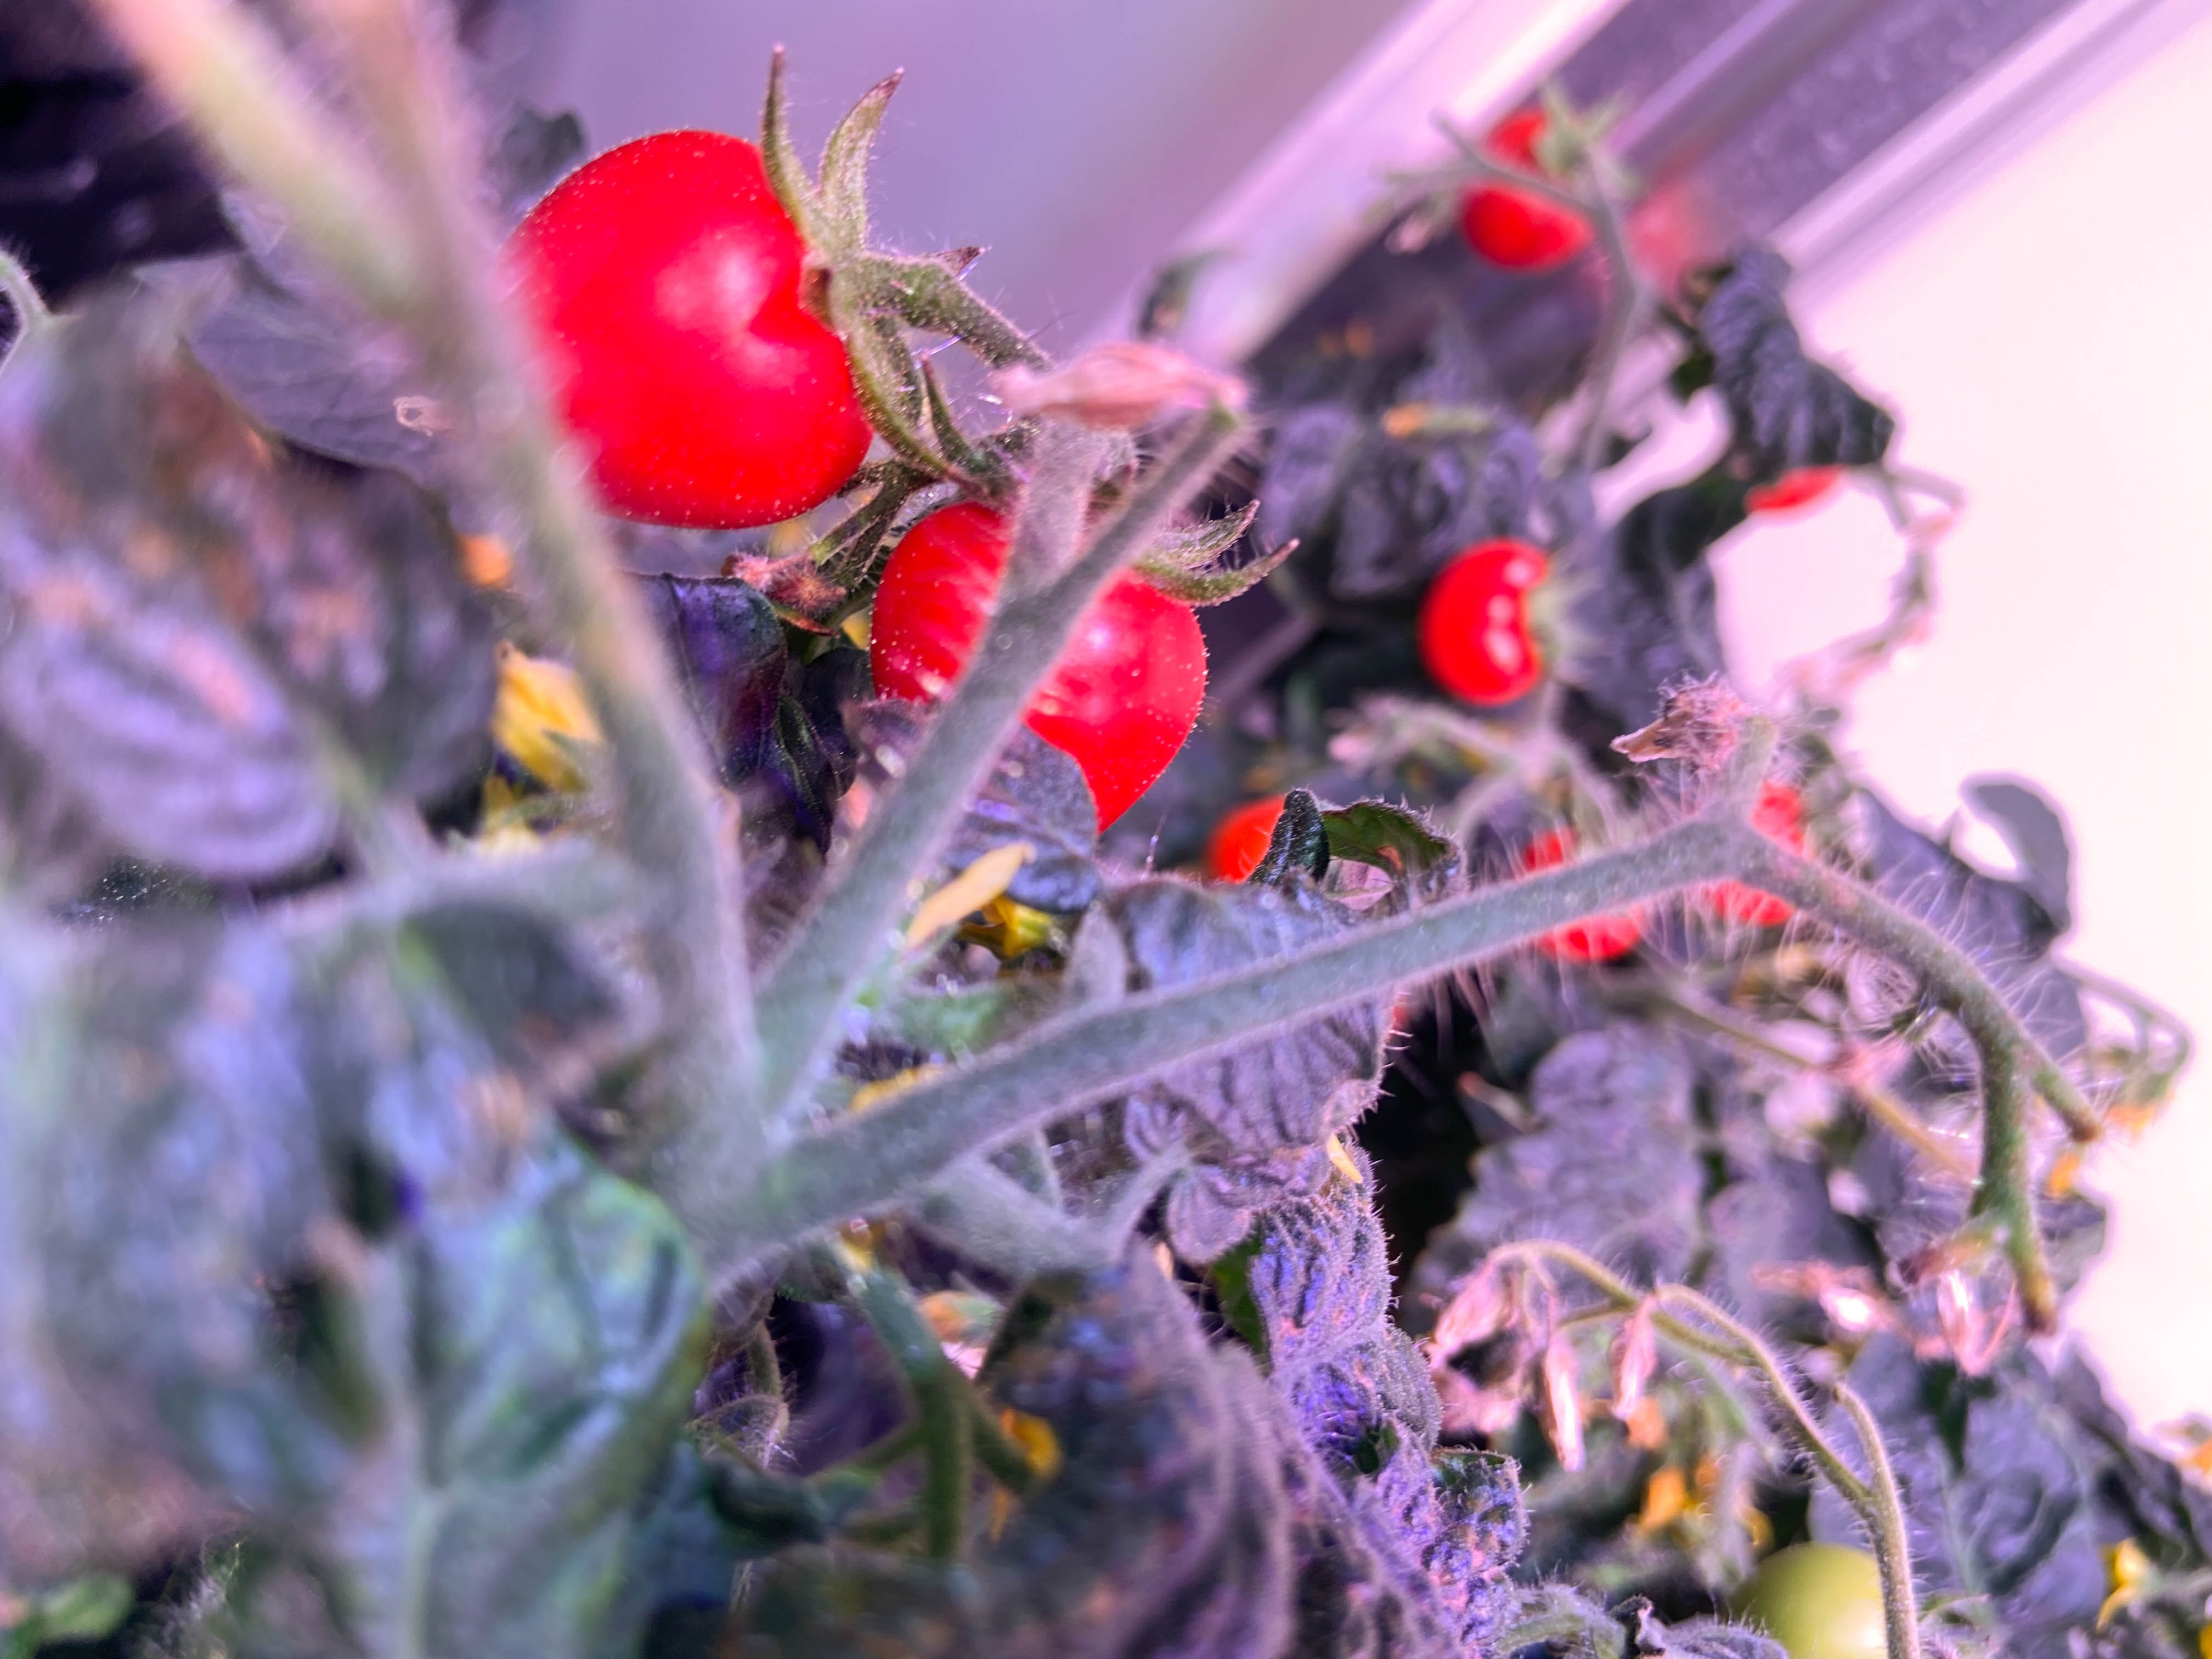green: (1743, 1541, 1914, 1659)
red: (498, 122, 878, 533), (862, 479, 1212, 852), (1460, 101, 1642, 275), (1414, 533, 1576, 706), (1676, 774, 1850, 934), (1491, 824, 1665, 965), (1717, 399, 1874, 532), (1191, 784, 1329, 885)
